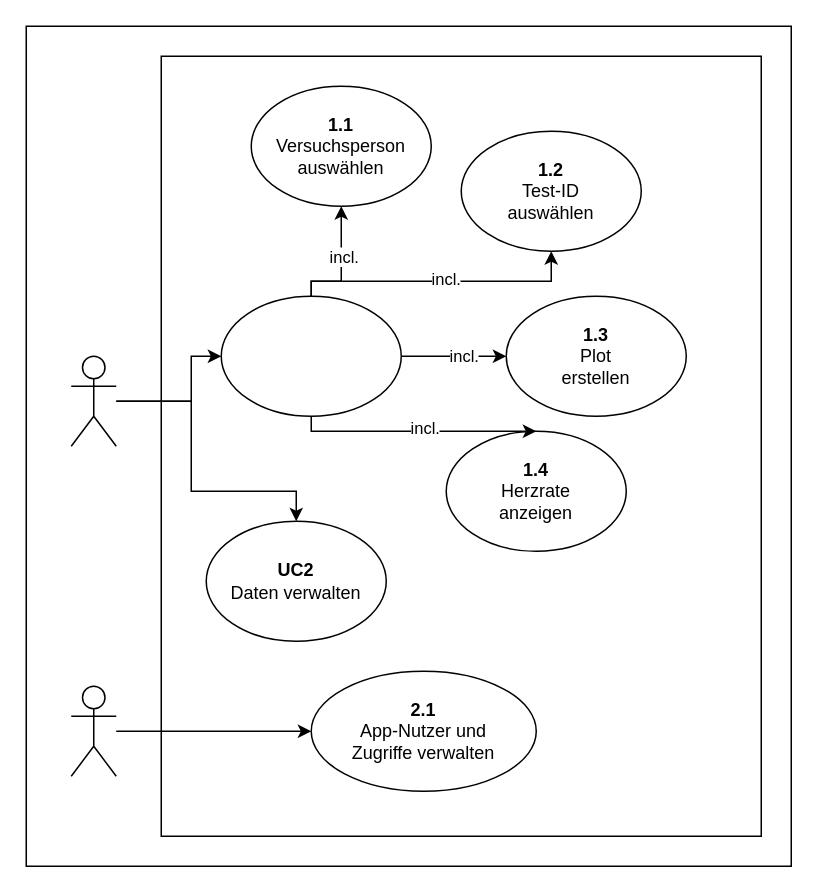
This 818x893 diagram has some shape labels left out. The centre of each missing label's shape, as x and y in pixels:
"Admin" goes at (93,730).
"UC 1 EKG Test auswerten" goes at (310,355).
"User" goes at (93,400).
